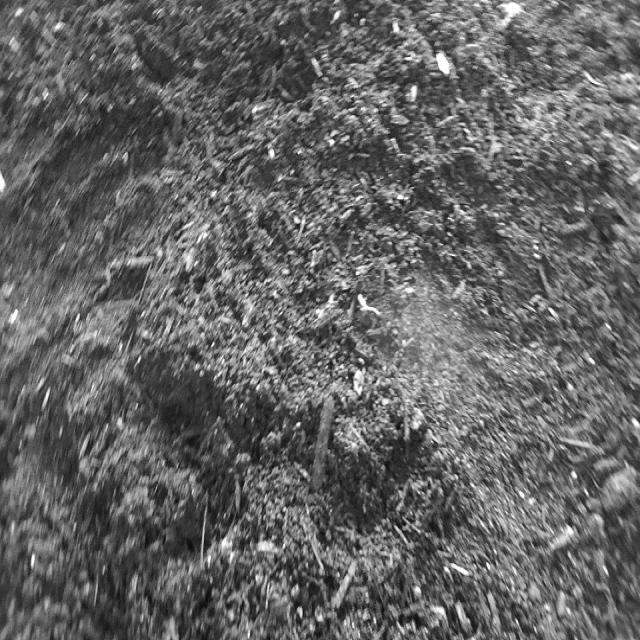Unhealthy: (355, 289, 385, 322)
